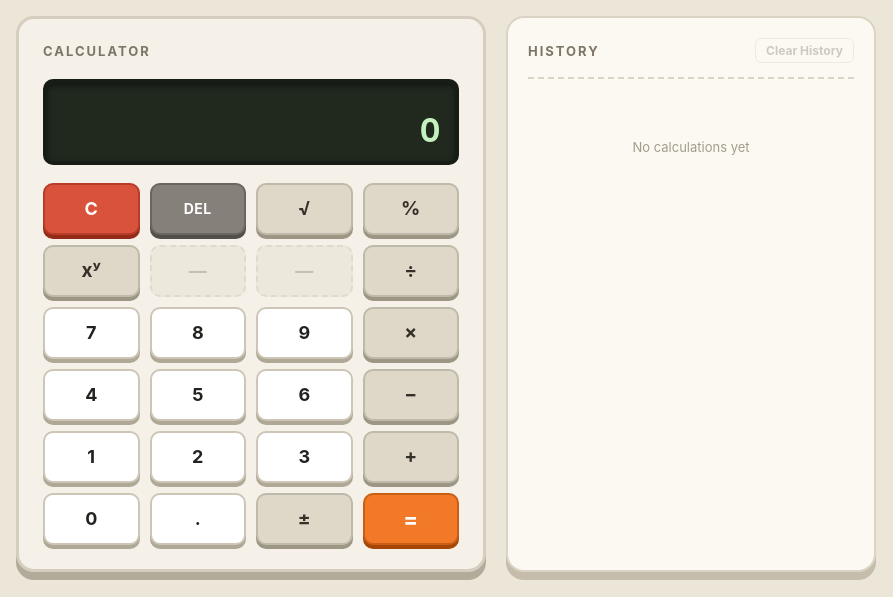
it: Calculator Component Integration › executes addition and adds item to history
The image size is (893, 597).
Click the button "4".
click(91, 395)  # box [43,369,140,421]
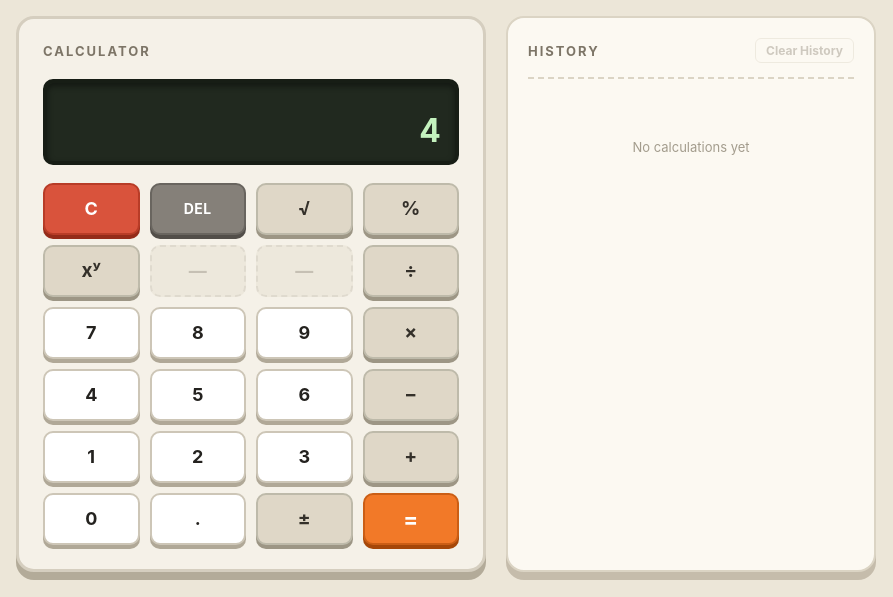
Click the button "0".
click(91, 519)  # box [43,493,140,545]
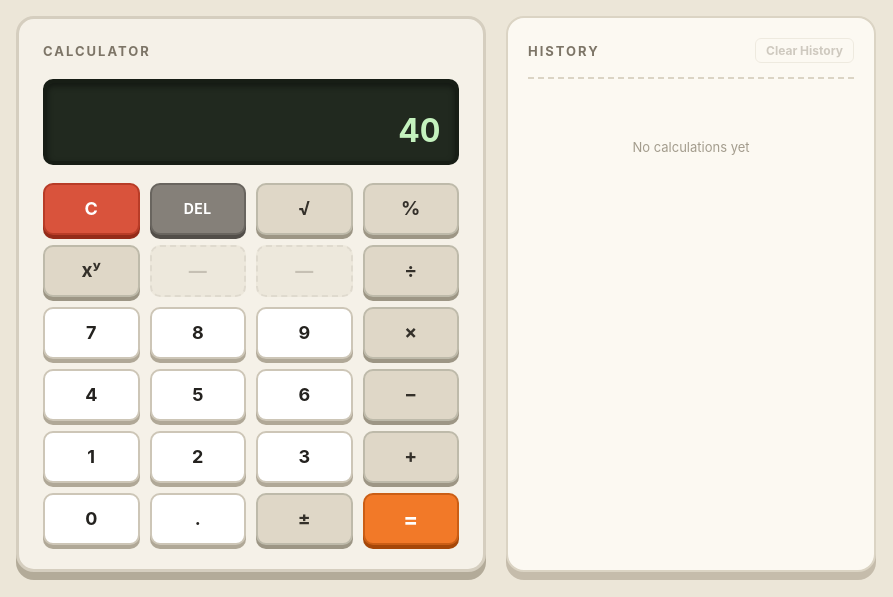
Click the button named "Add".
click(411, 457)  # box [362,431,459,483]
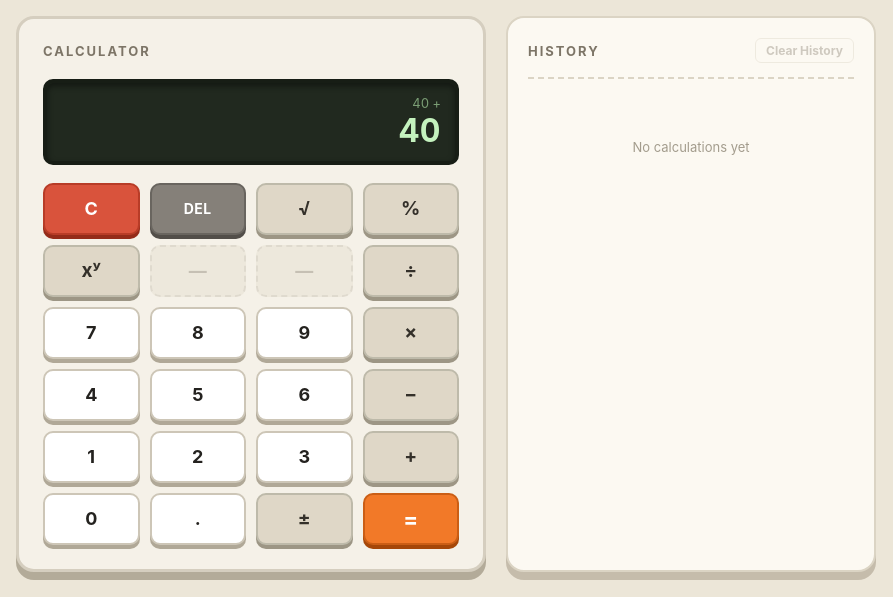
Click the button "2".
click(198, 457)  # box [150,431,246,483]
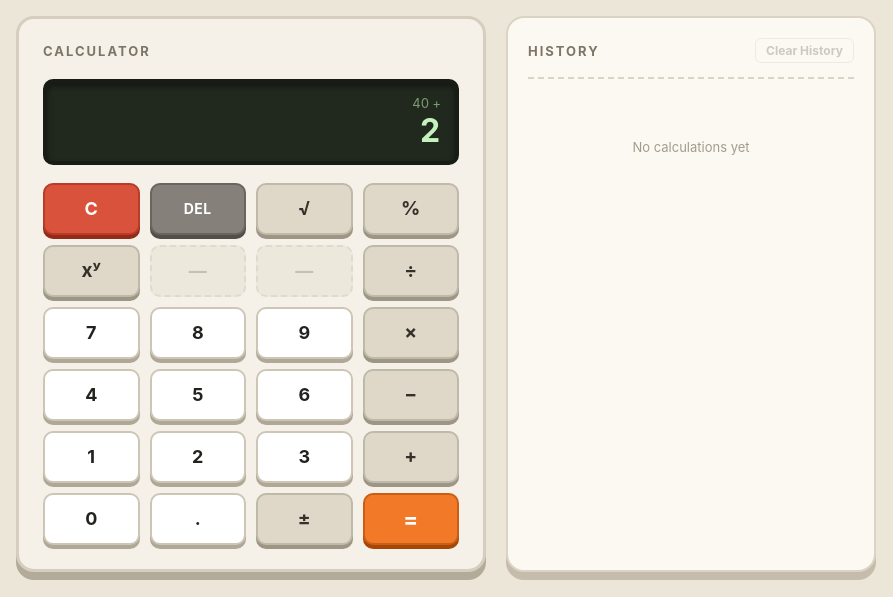
Click the button named "Equals".
click(411, 519)  # box [362,493,459,545]
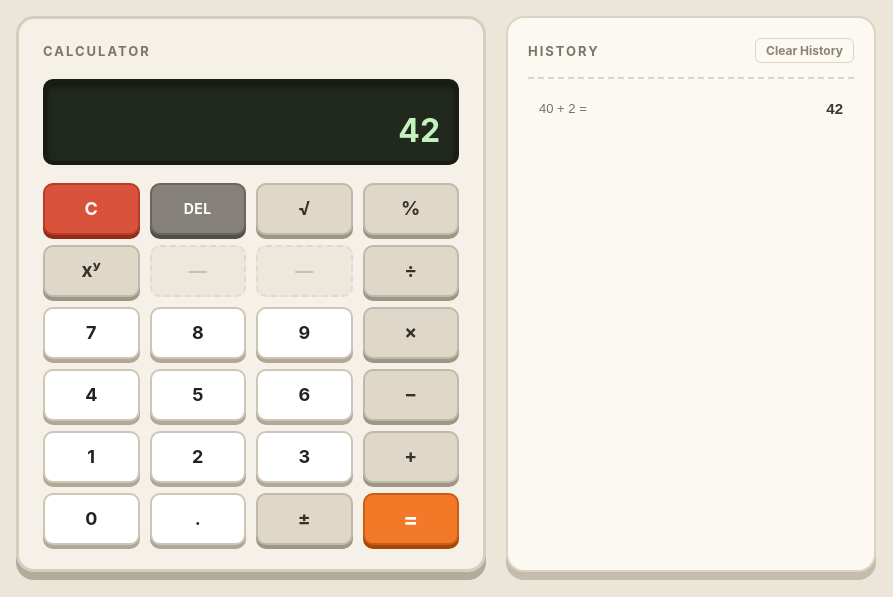
Result: the text with test id "main-display" reads "42" at [399,111,441,150]
Result: the text "40 + 2 =" is shown at [539,101,587,116]
